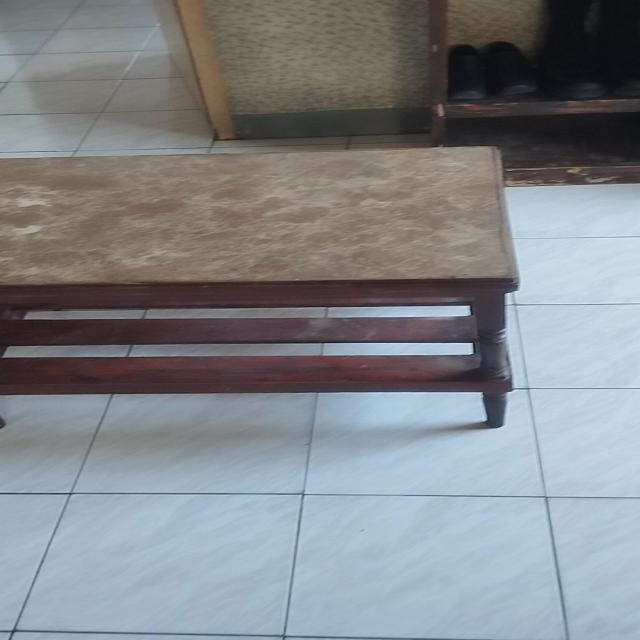table: (0, 146, 522, 435)
